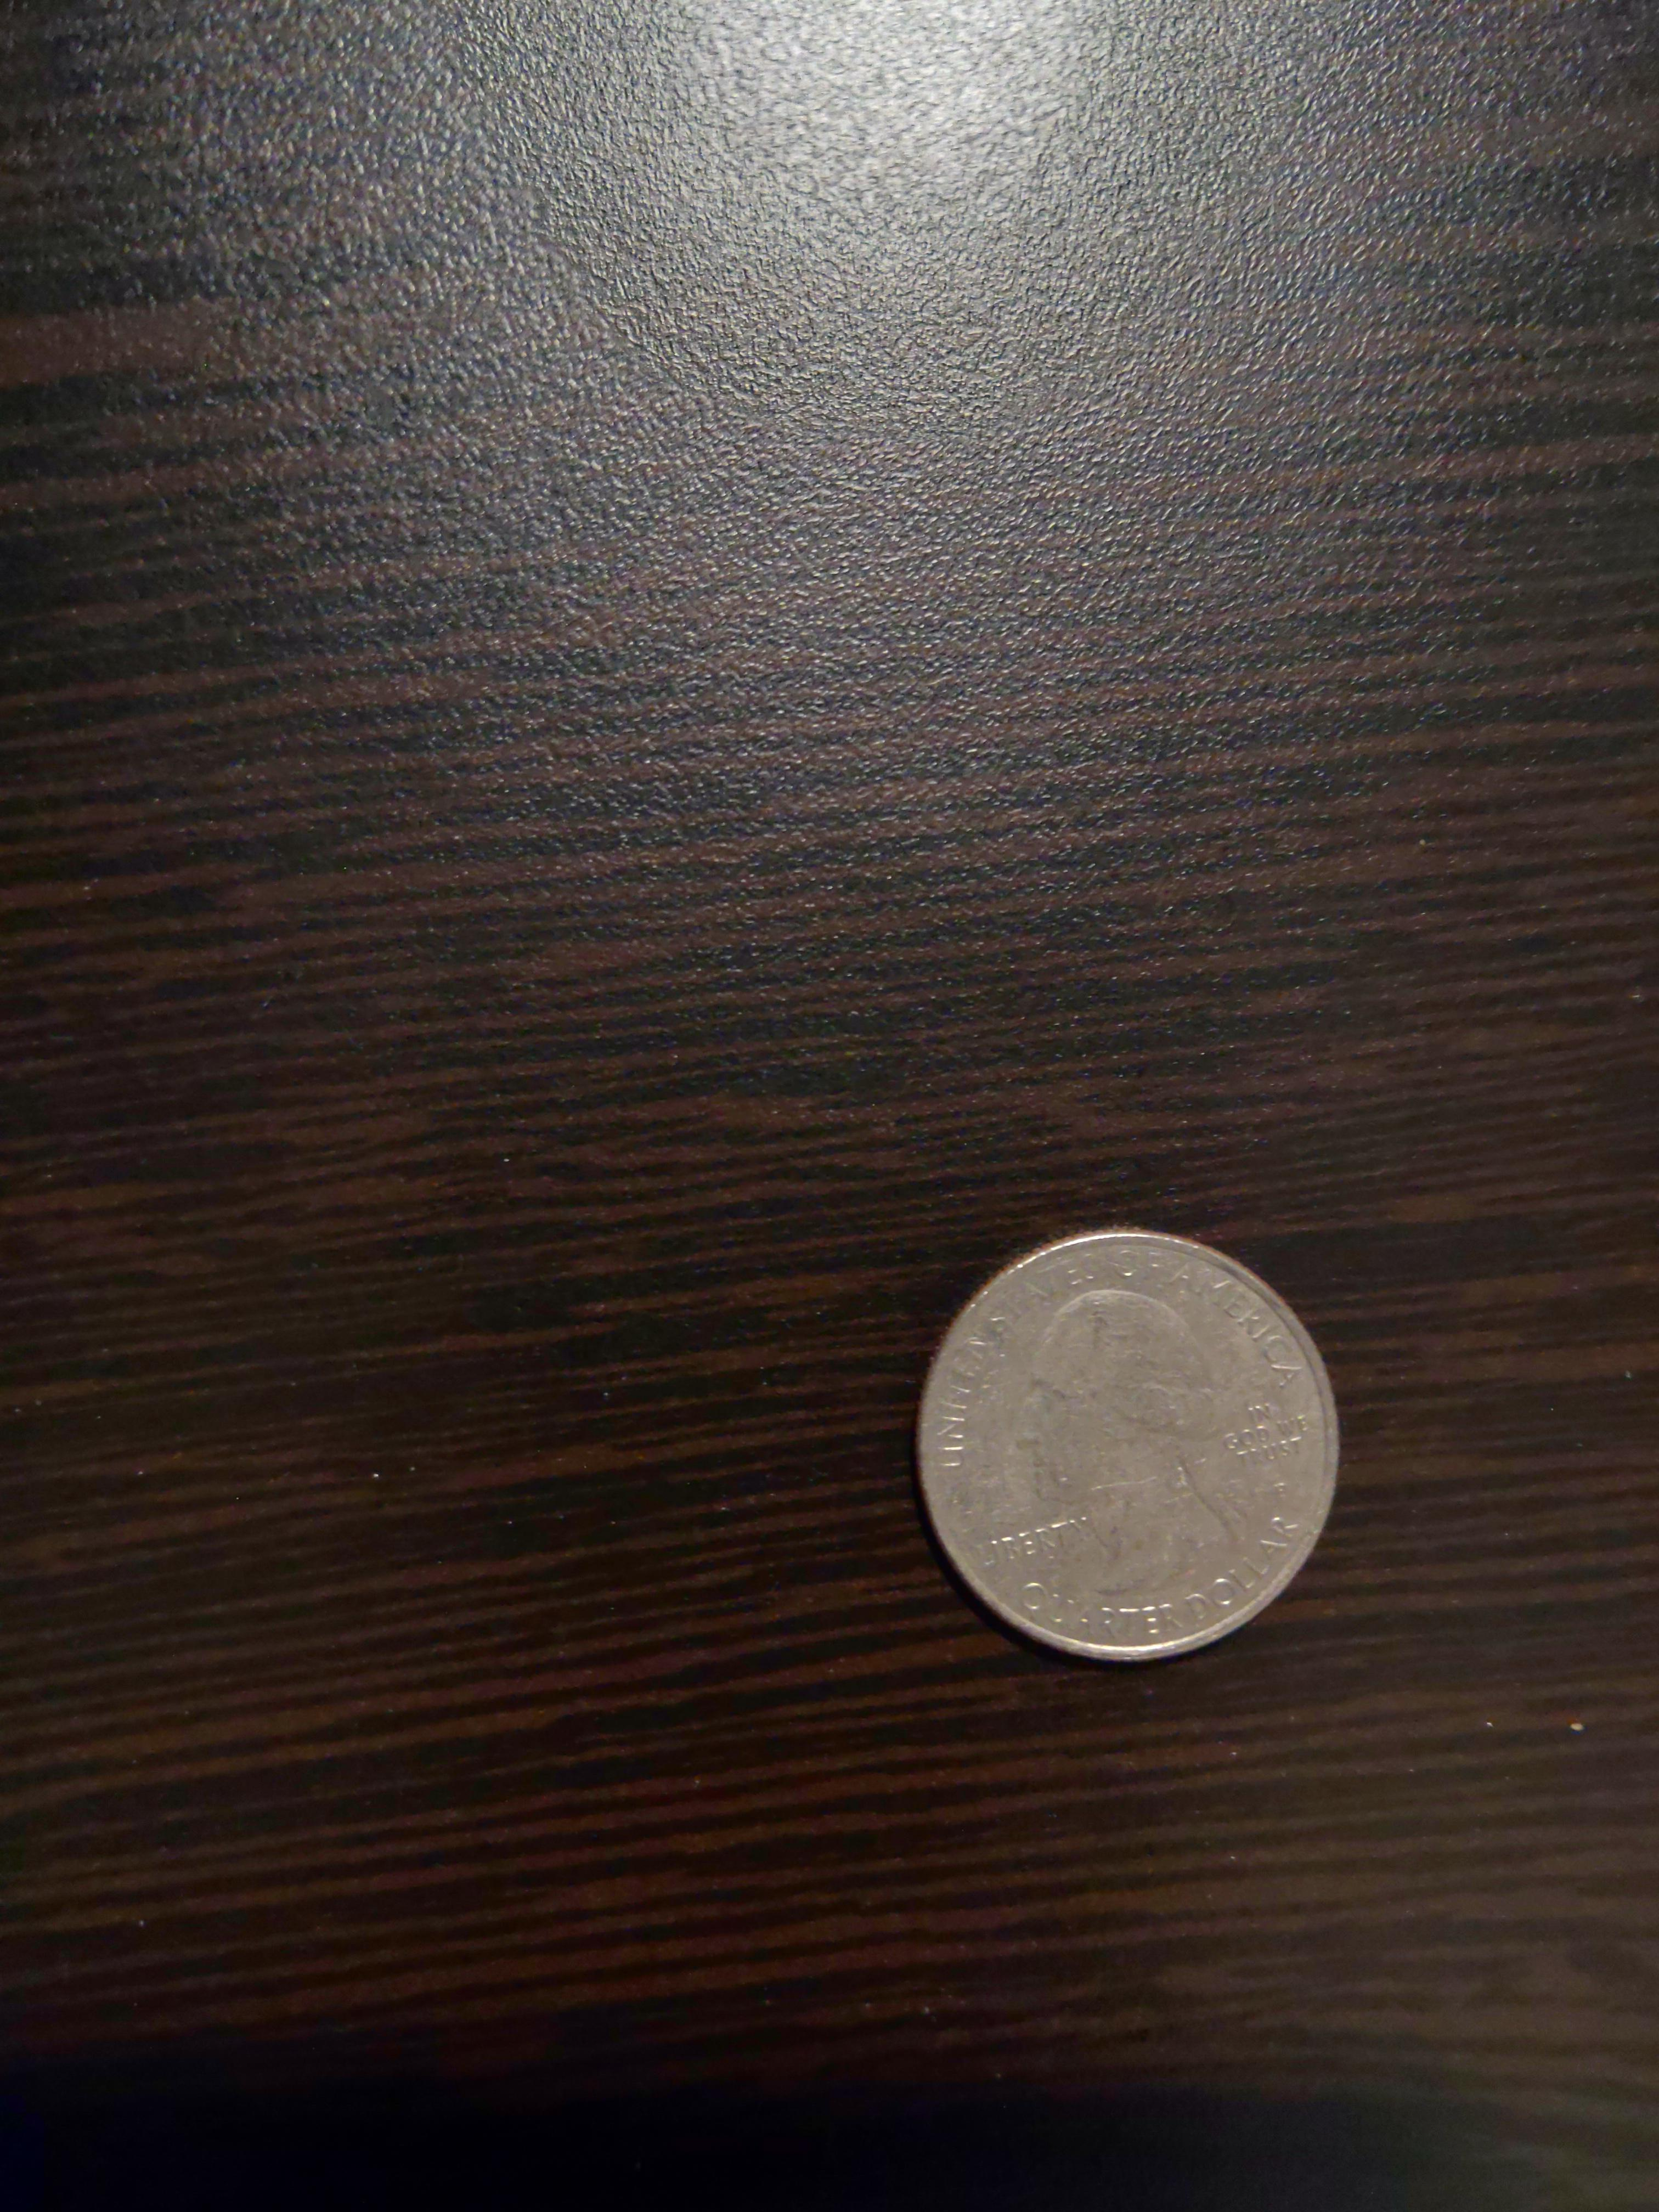Quarter: (908, 1221, 1342, 1665)
